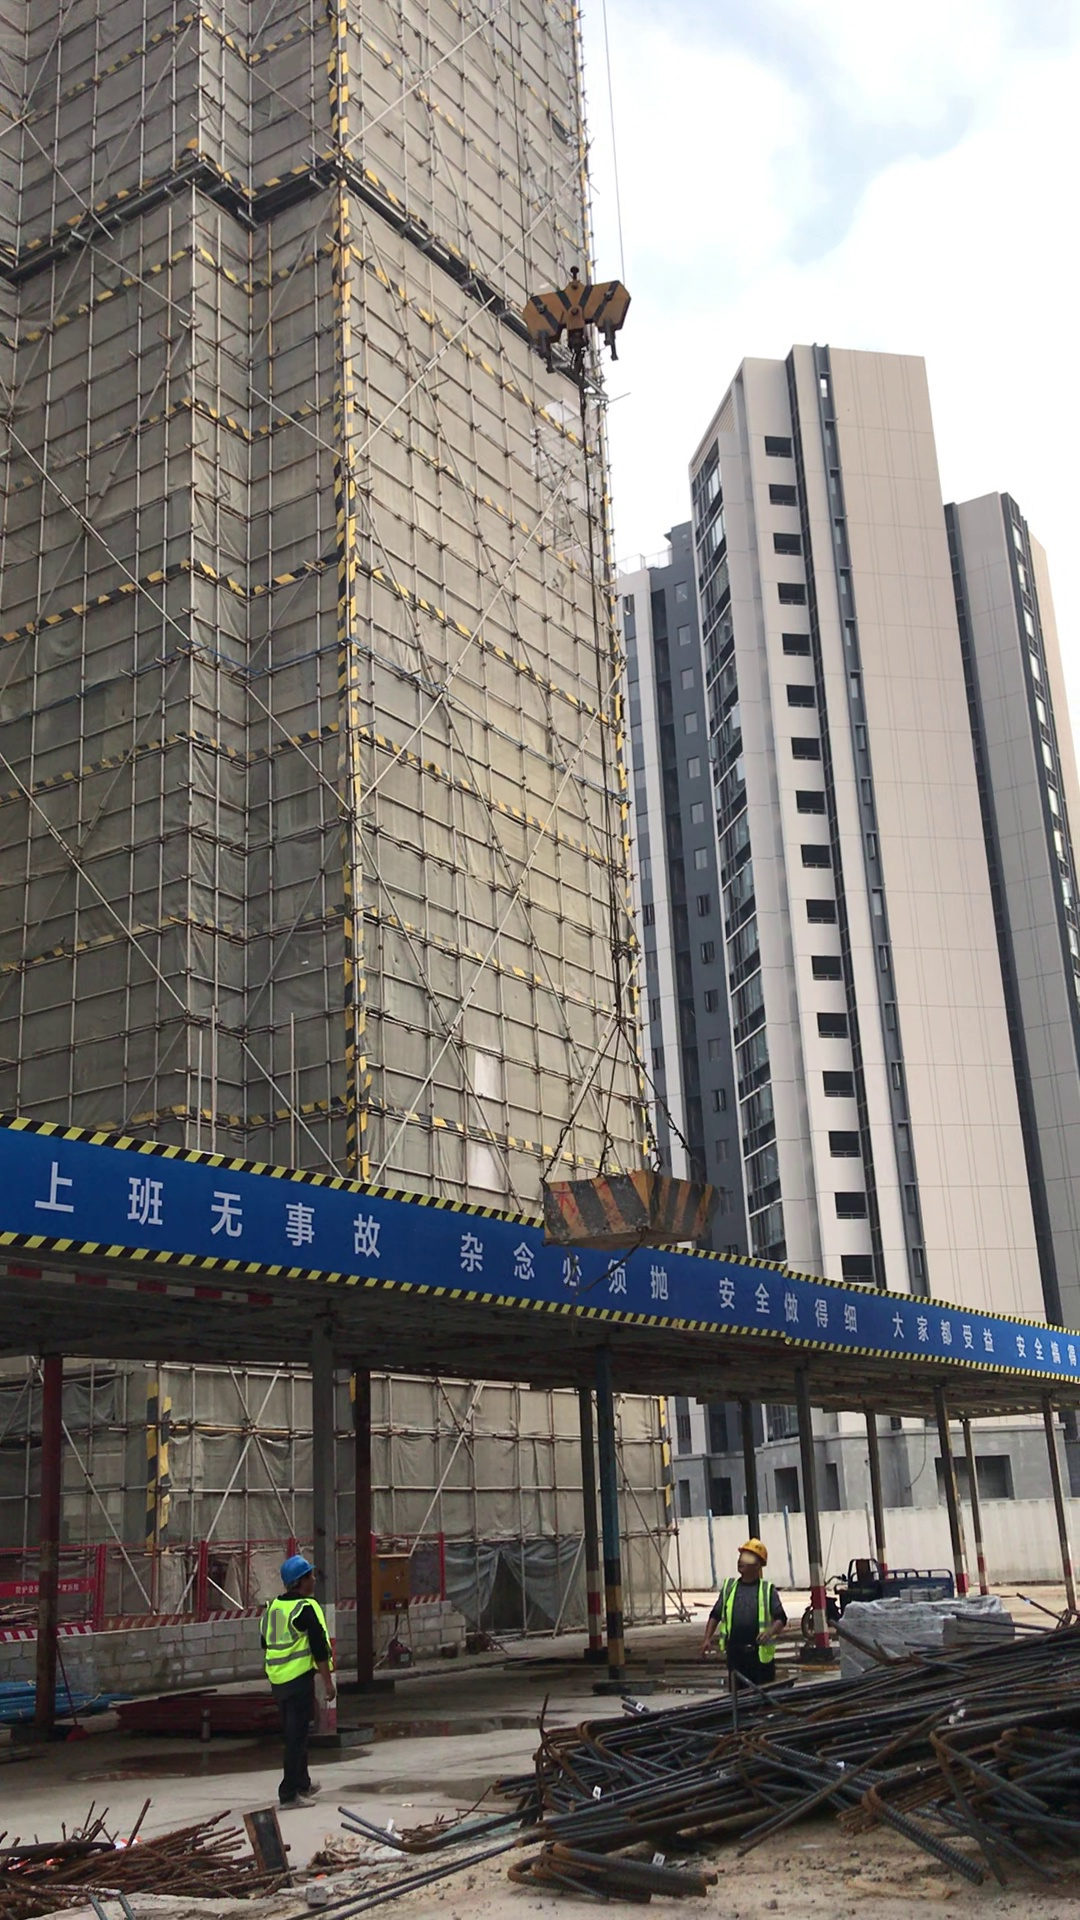ebox: (373, 1551, 422, 1668)
fence: (3, 1533, 444, 1644)
helmet: (275, 1555, 317, 1582), (734, 1538, 772, 1564)
hook: (518, 251, 636, 367)
hopper: (536, 1172, 724, 1247)
person: (235, 1555, 357, 1810), (702, 1535, 802, 1702)
slogan: (11, 1111, 1080, 1375)
vest: (260, 1596, 336, 1678), (714, 1575, 778, 1666)
